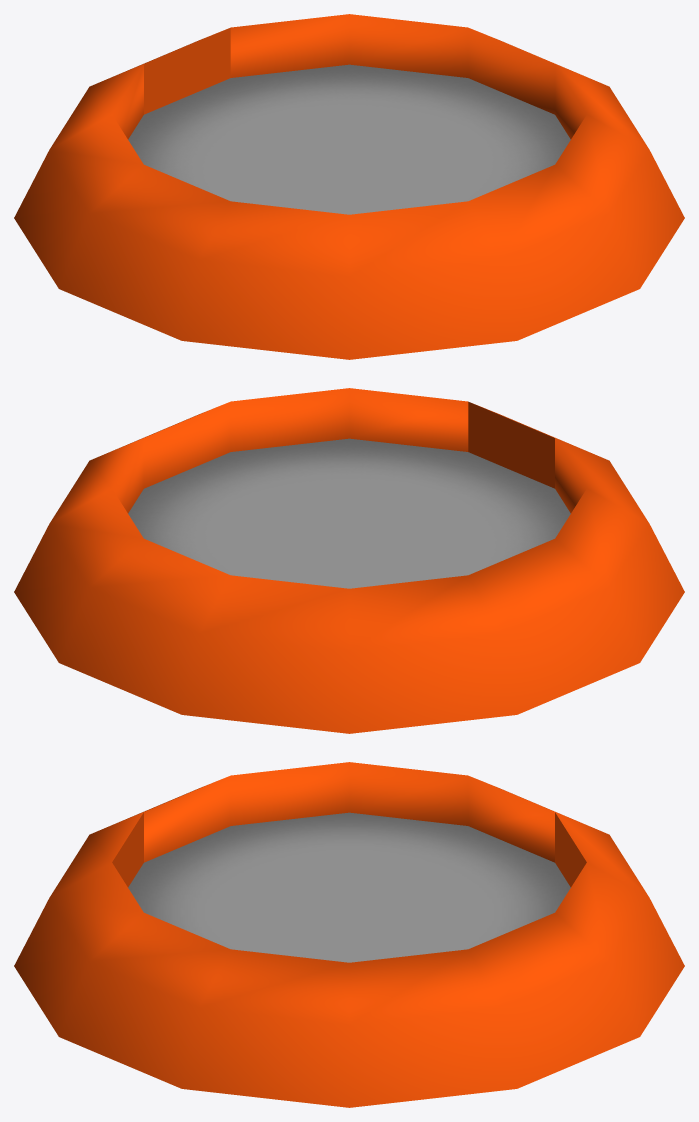
The model's file is TelescopeBase.FBX.
3 views of the same model, one above another, from view 1: azimuth 30°, elevation 25°; view 2: azimuth 150°, elevation 25°; view 3: azimuth 270°, elevation 25° (orthographic).
Visible parts, largest first — view 1: TelescopeBase; view 2: TelescopeBase; view 3: TelescopeBase.
Boxes of the visible parts, x1,y1,x2,y2 form: TelescopeBase: [14, 14, 684, 359]; TelescopeBase: [14, 388, 684, 733]; TelescopeBase: [14, 762, 684, 1107].
Bounding box in the file's own units: 0.7742 × 0.132 × 0.7742.
